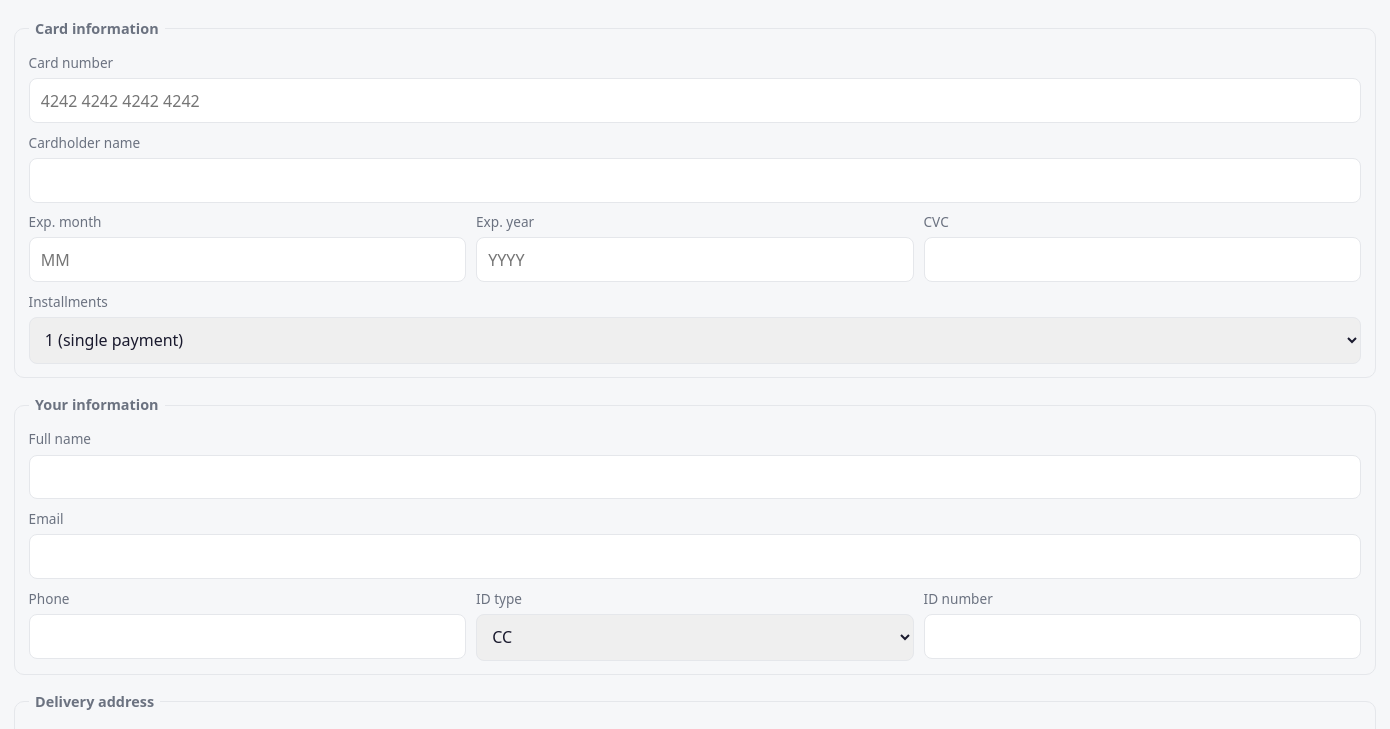
Test case: DetailsForm › rejects a Luhn-invalid card number and an unsupported brand distinctly
In the field with placeholder "4242 4242 4242 4242": [695, 101] box [29,78,1361,123], type "4242424242424241"
(page scrolled)
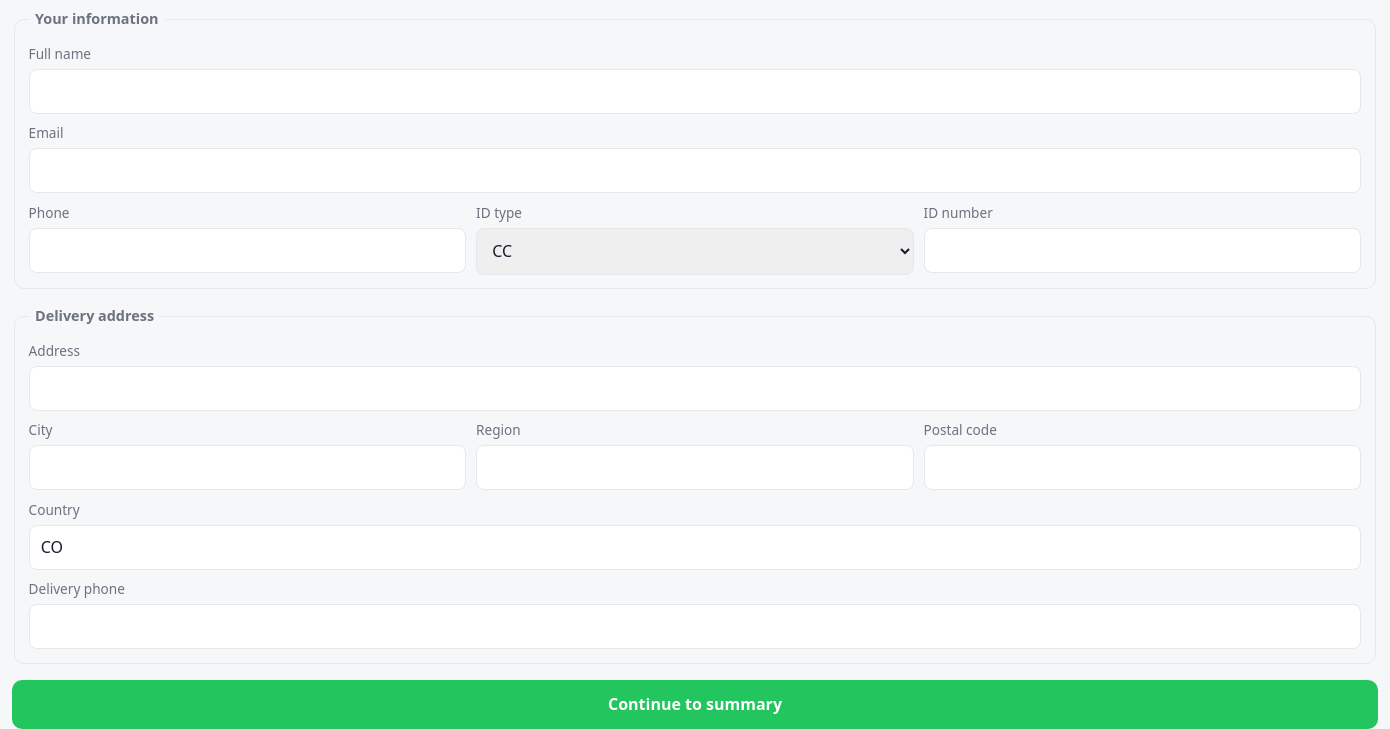
Click the button "Continue to summary": [695, 704] box [12,680,1378,728]
(page scrolled)
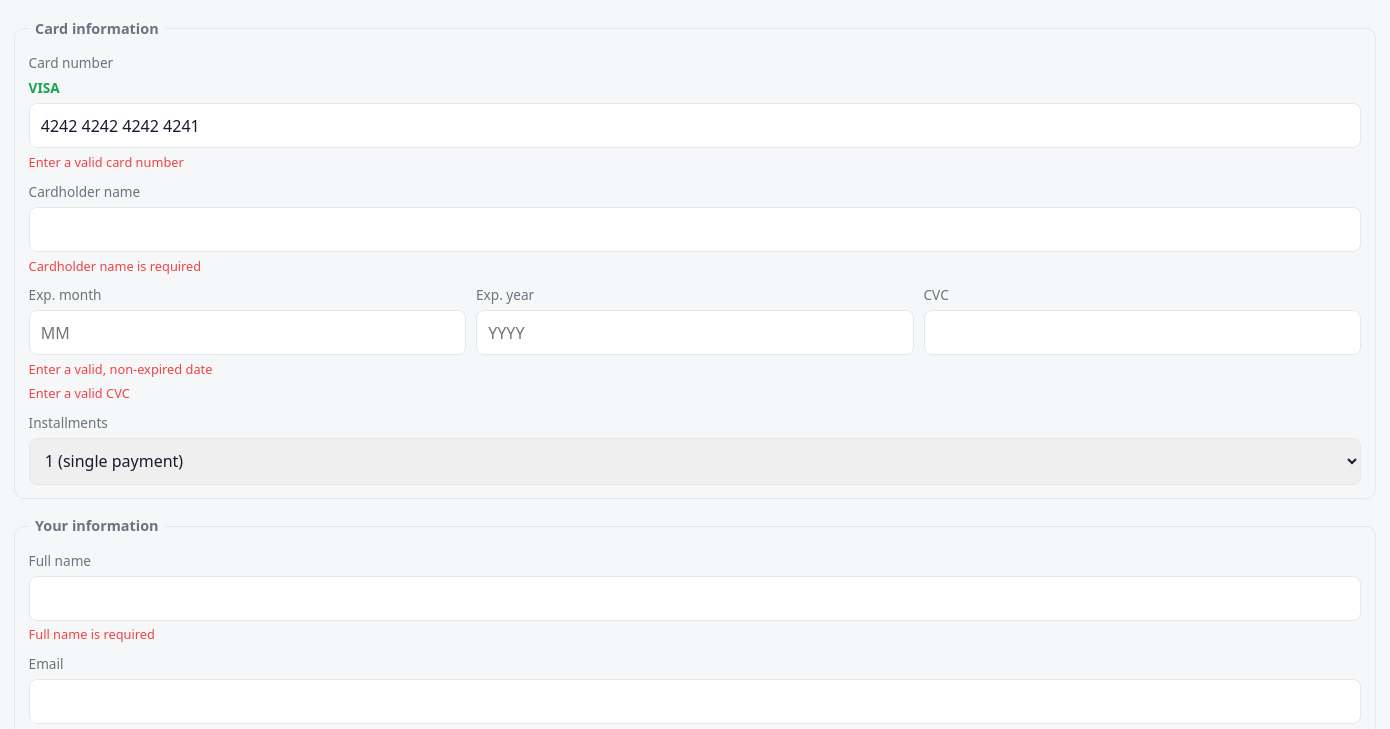
Check: the text "Enter a valid card number" is shown, box [29,153,184,171]
Replace the text in the field with placeholder "4242 4242 4242 4242" with "6011111111111117": [695, 126] box [29,103,1361,148]
(page scrolled)
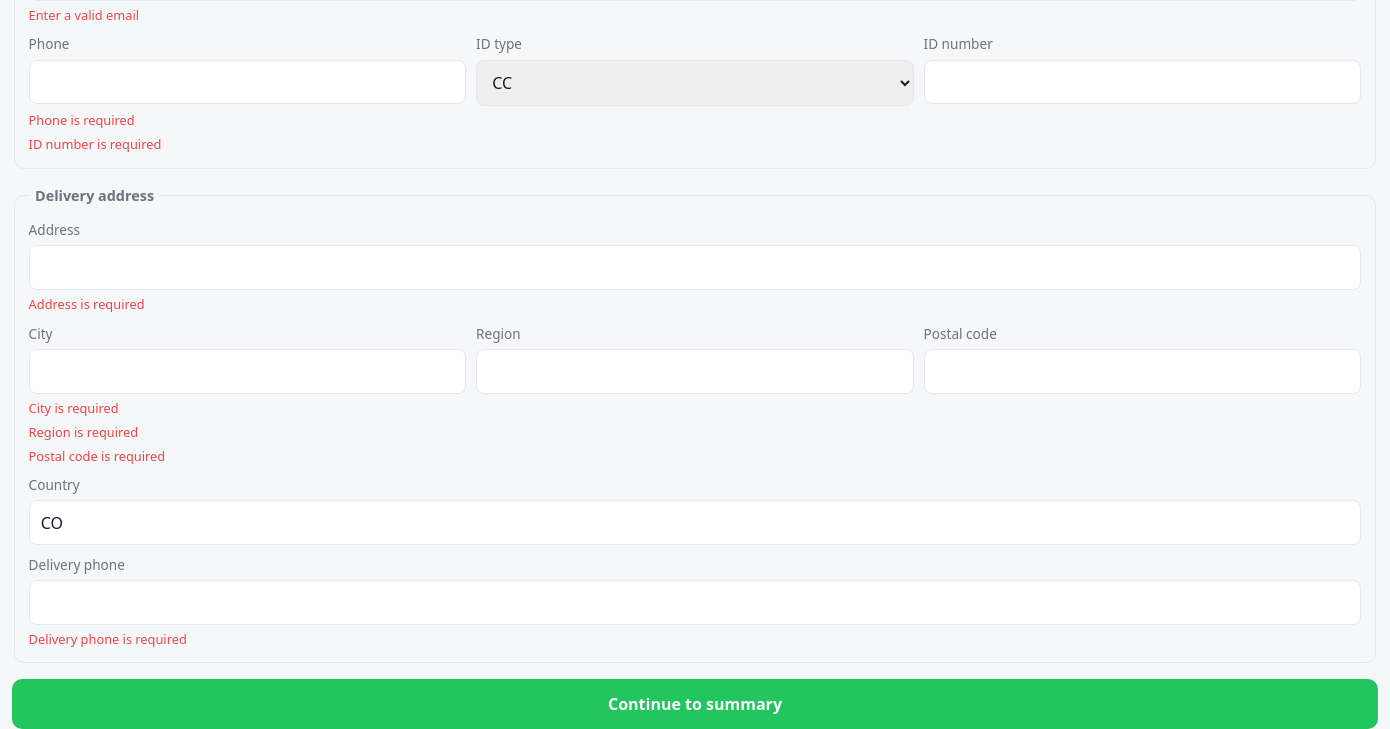
Click the button "Continue to summary": [695, 704] box [12,679,1378,728]
(page scrolled)
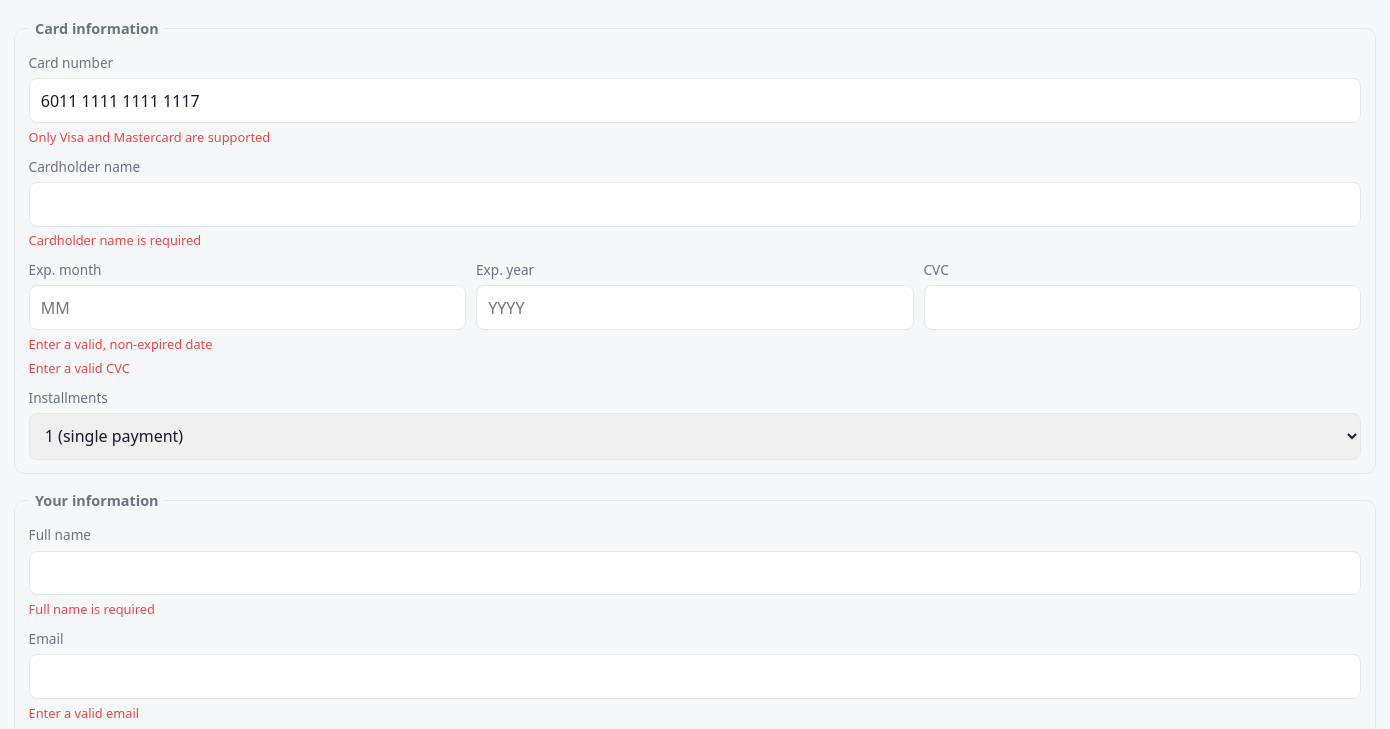
Check: the text "Only Visa and Mastercard are supported" is shown, box [29,128,270,146]
